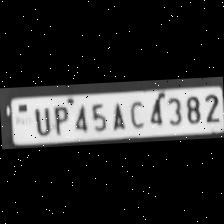2: (200, 90, 222, 122)
3: (163, 93, 183, 125)
4: (144, 93, 164, 126), (69, 100, 89, 132)
5: (86, 99, 108, 131)
8: (180, 92, 202, 124)
A: (106, 98, 126, 130)
C: (124, 96, 144, 128)
P: (48, 102, 70, 134)
U: (30, 103, 52, 135)
